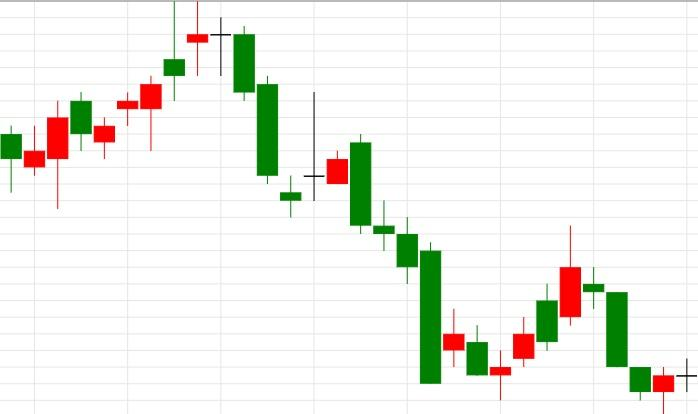bearish_engulfing_fall: (280, 92, 372, 234)
evening_star_fall: (23, 0, 255, 208)
